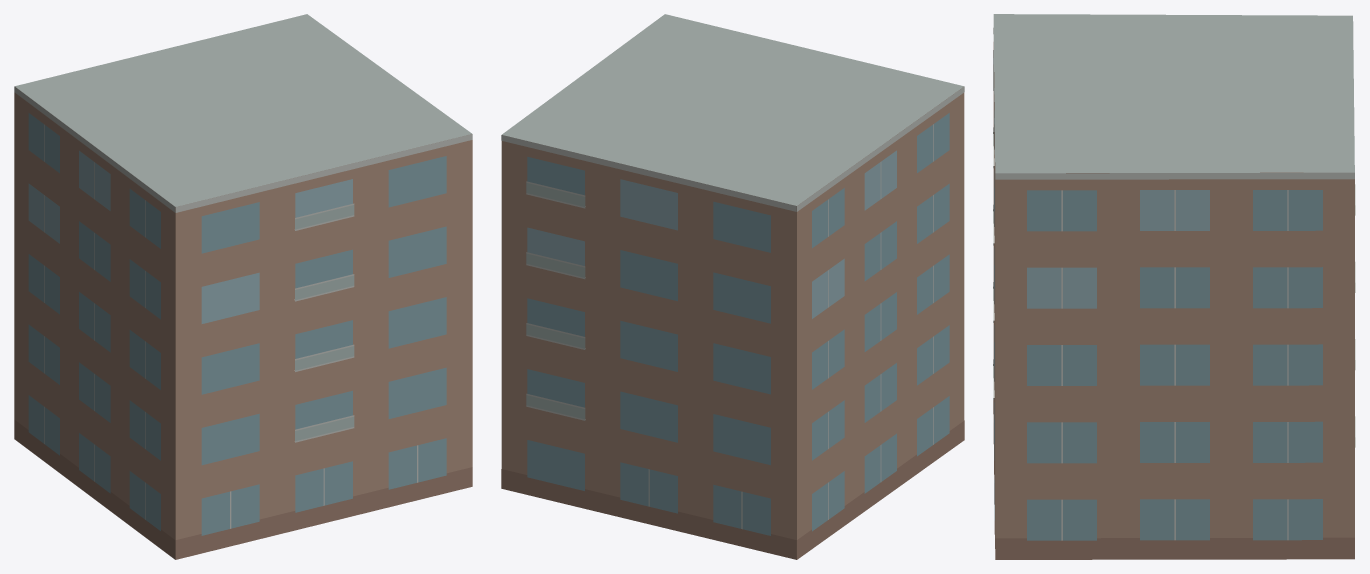
The model's file is survey-upis-32838175.glb.
The picture shows the model from 3 angles, left to right: view 1: azimuth 30°, elevation 25°; view 2: azimuth 150°, elevation 25°; view 3: azimuth 270°, elevation 25°; orthographic projection. The views are drawn at different scales.
Parts seen in each view (by area): view 1: survey-upis-32838175.tmp; view 2: survey-upis-32838175.tmp; view 3: survey-upis-32838175.tmp.
Boxes of the visible parts, x1=… form: survey-upis-32838175.tmp: x1=14, y1=14, x2=472, y2=559; survey-upis-32838175.tmp: x1=501, y1=14, x2=964, y2=559; survey-upis-32838175.tmp: x1=993, y1=14, x2=1355, y2=559.
Size of the model in its own units: 12.75 by 14.42 by 12.27.
